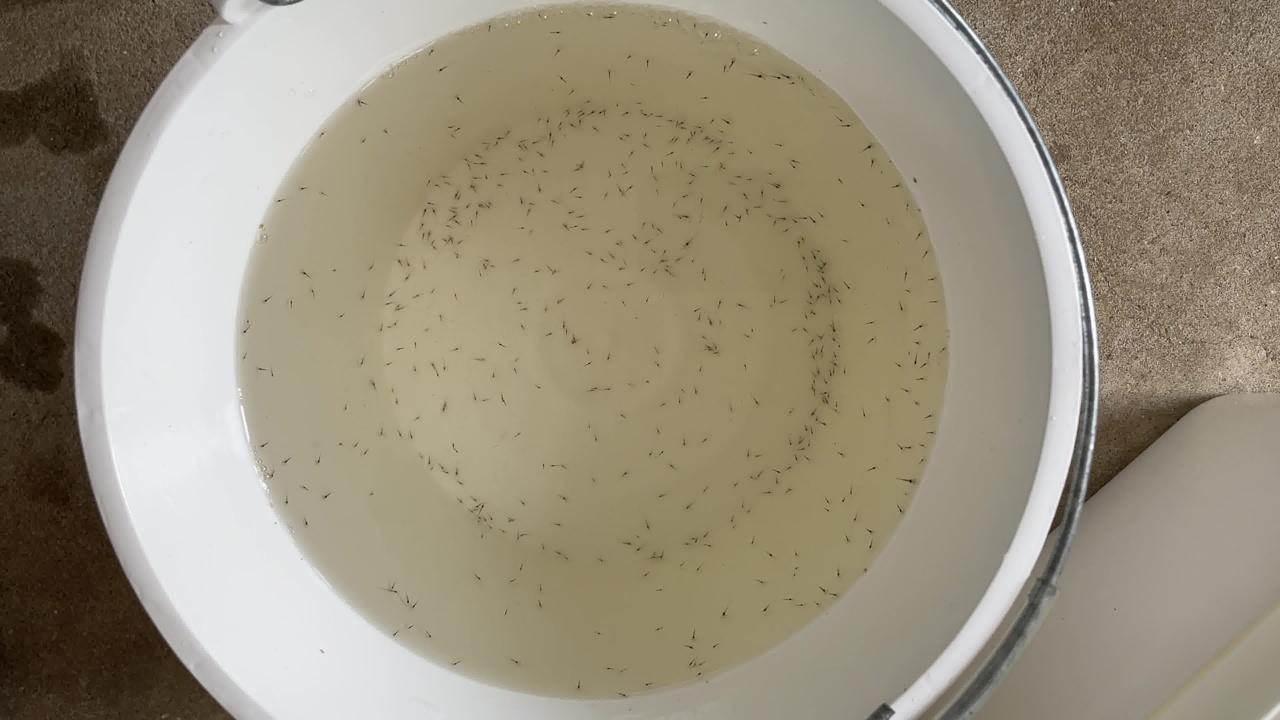shrimp: (498, 395, 510, 403), (536, 381, 548, 389), (513, 368, 525, 376), (490, 368, 502, 376), (479, 395, 491, 403), (467, 392, 479, 400), (503, 126, 515, 134), (496, 131, 508, 139), (490, 139, 502, 147), (478, 135, 490, 143), (486, 145, 498, 153), (474, 149, 486, 157), (462, 153, 474, 161), (461, 161, 473, 169), (477, 156, 489, 164), (481, 171, 493, 179), (470, 172, 482, 180), (469, 182, 481, 190), (489, 178, 501, 186), (498, 169, 510, 177), (456, 190, 468, 198), (453, 190, 465, 198), (464, 201, 476, 209), (448, 180, 460, 188), (440, 173, 452, 181), (435, 181, 447, 189), (423, 176, 435, 184), (425, 199, 437, 207), (418, 209, 430, 217), (413, 222, 425, 230), (420, 231, 432, 239), (424, 226, 436, 234), (429, 211, 441, 219), (429, 239, 441, 247), (438, 235, 450, 243), (442, 239, 454, 247), (445, 234, 457, 242), (450, 236, 462, 244), (455, 238, 467, 246), (453, 248, 465, 256), (441, 224, 453, 232), (458, 218, 470, 226), (449, 215, 461, 223), (448, 211, 460, 219), (448, 206, 460, 214), (467, 219, 479, 227), (474, 213, 486, 221), (476, 203, 488, 211), (484, 204, 496, 212), (486, 198, 498, 206), (516, 170, 528, 178), (527, 166, 539, 174), (538, 165, 550, 173), (514, 156, 526, 164), (513, 141, 525, 149), (520, 143, 532, 151), (518, 137, 530, 145), (529, 138, 541, 146), (534, 117, 546, 125), (543, 116, 555, 124), (544, 131, 556, 139), (550, 139, 562, 147), (537, 150, 549, 158), (534, 181, 546, 189), (515, 197, 527, 205), (529, 199, 541, 207), (521, 205, 533, 213), (474, 269, 486, 277), (481, 264, 493, 272), (489, 264, 501, 272), (482, 257, 494, 265), (509, 257, 521, 265), (518, 224, 530, 232), (548, 198, 560, 206), (565, 206, 577, 214), (577, 210, 589, 218), (561, 221, 573, 229), (570, 224, 582, 232), (582, 224, 594, 232), (599, 225, 611, 233), (576, 194, 588, 202), (571, 185, 583, 193), (571, 167, 583, 175), (577, 162, 589, 170), (554, 117, 566, 125), (555, 132, 567, 140), (539, 264, 551, 272), (551, 268, 563, 276), (528, 264, 540, 272), (508, 284, 520, 292), (397, 239, 409, 247), (391, 257, 403, 265), (420, 260, 432, 268), (402, 259, 414, 267), (389, 288, 401, 296), (380, 299, 392, 307), (399, 306, 411, 314), (390, 302, 402, 310), (412, 291, 424, 299), (402, 272, 414, 280), (427, 286, 439, 294), (435, 312, 447, 320), (448, 290, 460, 298), (498, 340, 510, 348), (513, 355, 525, 363), (516, 324, 528, 332), (519, 304, 531, 312), (515, 299, 527, 307), (540, 306, 552, 314), (544, 327, 556, 335), (553, 296, 565, 304), (555, 317, 567, 325), (560, 325, 572, 333), (569, 338, 581, 346), (582, 346, 594, 354), (581, 360, 593, 368), (592, 382, 604, 390), (589, 388, 601, 396), (603, 386, 615, 394), (605, 350, 617, 358), (600, 284, 612, 292), (585, 284, 597, 292), (586, 248, 598, 256), (599, 257, 611, 265), (571, 125, 583, 133), (562, 111, 574, 119), (563, 103, 575, 111), (573, 105, 585, 113), (575, 111, 587, 119), (584, 106, 596, 114), (583, 100, 595, 108), (592, 108, 604, 116), (600, 108, 612, 116), (588, 123, 600, 131), (623, 106, 635, 114), (613, 98, 625, 106), (606, 170, 618, 178), (601, 189, 613, 197), (620, 137, 632, 145), (623, 130, 635, 138), (625, 150, 637, 158), (618, 158, 630, 166), (622, 180, 634, 188), (614, 184, 626, 192), (615, 238, 627, 246), (631, 228, 643, 236), (611, 251, 623, 259), (618, 262, 630, 270), (639, 217, 651, 225), (652, 224, 664, 232), (643, 235, 655, 243), (640, 128, 652, 136), (643, 143, 655, 151), (646, 161, 658, 169), (651, 174, 663, 182), (652, 185, 664, 193), (656, 159, 668, 167), (647, 107, 659, 115), (656, 110, 668, 118), (663, 115, 675, 123), (670, 115, 682, 123), (675, 116, 687, 124), (679, 121, 691, 129), (638, 111, 650, 119), (634, 96, 646, 104), (628, 80, 640, 88), (605, 66, 617, 74), (566, 85, 578, 93), (557, 72, 569, 80), (551, 43, 563, 51), (547, 25, 559, 33), (443, 119, 455, 127), (454, 125, 466, 133), (447, 132, 459, 140), (456, 94, 468, 102), (436, 61, 448, 69), (427, 47, 439, 55), (485, 22, 497, 30), (604, 13, 616, 21), (750, 74, 762, 82), (768, 72, 780, 80), (783, 72, 795, 80), (788, 80, 800, 88), (732, 58, 744, 66), (719, 66, 731, 74), (686, 71, 698, 79), (636, 58, 648, 66), (674, 17, 686, 25), (688, 20, 700, 28), (702, 29, 714, 37), (700, 87, 712, 95), (723, 115, 735, 123), (831, 113, 843, 121), (842, 121, 854, 129), (663, 135, 675, 143), (668, 137, 680, 145), (682, 138, 694, 146), (684, 128, 696, 136), (694, 126, 706, 134), (708, 114, 720, 122), (718, 124, 730, 132), (668, 152, 680, 160), (668, 198, 680, 206), (628, 279, 640, 287), (635, 265, 647, 273), (650, 242, 662, 250), (681, 239, 693, 247), (681, 212, 693, 220), (674, 214, 686, 222), (680, 194, 692, 202), (686, 179, 698, 187), (689, 170, 701, 178), (679, 161, 691, 169), (696, 161, 708, 169), (711, 144, 723, 152), (707, 137, 719, 145), (703, 134, 715, 142), (727, 137, 739, 145), (730, 151, 742, 159), (741, 148, 753, 156), (777, 138, 789, 146), (791, 152, 803, 160), (784, 161, 796, 169), (835, 174, 847, 182), (861, 197, 873, 205), (881, 216, 893, 224), (870, 158, 882, 166), (864, 140, 876, 148), (734, 210, 746, 218), (730, 212, 742, 220), (741, 206, 753, 214), (719, 162, 731, 170), (728, 178, 740, 186), (737, 169, 749, 177), (744, 176, 756, 184), (774, 181, 786, 189), (769, 184, 781, 192), (758, 191, 770, 199), (754, 202, 766, 210), (739, 191, 751, 199), (719, 204, 731, 212), (677, 255, 689, 263), (661, 269, 673, 277), (663, 261, 675, 269), (657, 255, 669, 263), (649, 265, 661, 273), (411, 339, 423, 347), (452, 445, 464, 453), (473, 499, 485, 507), (468, 492, 480, 500), (468, 506, 480, 514), (453, 496, 465, 504), (454, 480, 466, 488), (478, 502, 490, 510), (473, 512, 485, 520), (480, 515, 492, 523), (485, 507, 497, 515), (485, 521, 497, 529), (478, 528, 490, 536), (474, 517, 486, 525), (451, 471, 463, 479), (438, 406, 450, 414), (427, 361, 439, 369), (434, 373, 446, 381), (438, 363, 450, 371), (451, 343, 463, 351), (476, 354, 488, 362), (818, 210, 830, 218), (810, 215, 822, 223), (797, 210, 809, 218), (776, 195, 788, 203), (763, 208, 775, 216), (781, 211, 793, 219), (770, 216, 782, 224), (791, 218, 803, 226), (782, 225, 794, 233), (696, 264, 708, 272), (699, 273, 711, 281), (685, 254, 697, 262), (698, 198, 710, 206), (721, 219, 733, 227), (695, 306, 707, 314), (714, 297, 726, 305), (736, 299, 748, 307), (790, 243, 802, 251), (795, 236, 807, 244), (836, 235, 848, 243), (894, 179, 906, 187), (913, 230, 925, 238), (918, 249, 930, 257), (926, 272, 938, 280), (926, 293, 938, 301), (901, 267, 913, 275), (901, 208, 913, 216), (386, 129, 398, 137), (358, 137, 370, 145), (358, 97, 370, 105), (353, 100, 365, 108), (313, 124, 325, 132), (273, 195, 285, 203), (292, 187, 304, 195), (320, 190, 332, 198), (821, 259, 833, 267), (817, 264, 829, 272), (815, 268, 827, 276), (818, 248, 830, 256), (809, 252, 821, 260), (799, 254, 811, 262), (803, 264, 815, 272), (711, 338, 723, 346), (714, 352, 726, 360), (705, 346, 717, 354), (702, 339, 714, 347), (705, 314, 717, 322), (712, 319, 724, 327), (748, 323, 760, 331), (742, 331, 754, 339), (770, 295, 782, 303), (776, 297, 788, 305), (807, 283, 819, 291), (816, 283, 828, 291), (844, 280, 856, 288), (831, 284, 843, 292), (803, 298, 815, 306), (835, 296, 847, 304), (816, 293, 828, 301), (823, 297, 835, 305), (899, 283, 911, 291), (897, 301, 909, 309), (652, 361, 664, 369), (652, 345, 664, 353), (644, 297, 656, 305), (616, 299, 628, 307), (640, 374, 652, 382), (659, 399, 671, 407), (676, 396, 688, 404), (676, 388, 688, 396), (724, 406, 736, 414), (747, 395, 759, 403), (740, 364, 752, 372), (694, 385, 706, 393), (696, 365, 708, 373), (870, 335, 882, 343), (863, 317, 875, 325), (914, 323, 926, 331), (935, 346, 947, 354), (903, 475, 915, 483), (914, 458, 926, 466), (903, 441, 915, 449), (893, 441, 905, 449), (857, 408, 869, 416), (828, 319, 840, 327), (824, 322, 836, 330), (913, 338, 925, 346), (926, 350, 938, 358), (893, 360, 905, 368), (882, 394, 894, 402), (923, 413, 935, 421), (915, 440, 927, 448), (926, 429, 938, 437), (912, 401, 924, 409), (903, 385, 915, 393), (908, 356, 920, 364), (918, 362, 930, 370), (915, 373, 927, 381), (811, 309, 823, 317), (800, 315, 812, 323), (790, 326, 802, 334), (801, 327, 813, 335), (836, 340, 848, 348), (831, 335, 843, 343), (805, 336, 817, 344), (806, 351, 818, 359), (819, 342, 831, 350), (813, 346, 825, 354), (818, 330, 830, 338), (812, 330, 824, 338), (843, 366, 855, 374), (832, 348, 844, 356), (830, 357, 842, 365), (830, 365, 842, 373), (826, 367, 838, 375), (809, 370, 821, 378), (811, 368, 823, 376), (808, 376, 820, 384), (822, 374, 834, 382), (808, 385, 820, 393), (817, 386, 829, 394), (825, 390, 837, 398), (831, 396, 843, 404), (831, 404, 843, 412), (825, 397, 837, 405), (819, 397, 831, 405), (836, 450, 848, 458), (865, 466, 877, 474), (896, 505, 908, 513), (867, 542, 879, 550), (846, 535, 858, 543), (820, 507, 832, 515), (823, 497, 835, 505), (867, 525, 879, 533), (852, 512, 864, 520), (839, 498, 851, 506), (846, 488, 858, 496), (804, 456, 816, 464), (792, 547, 804, 555), (762, 550, 774, 558), (745, 449, 757, 457), (755, 449, 767, 457), (785, 405, 797, 413), (808, 405, 820, 413), (786, 438, 798, 446), (821, 417, 833, 425), (798, 422, 810, 430), (812, 415, 824, 423), (798, 430, 810, 438), (798, 444, 810, 452), (805, 437, 817, 445), (808, 424, 820, 432), (792, 451, 804, 459), (784, 463, 796, 471), (770, 466, 782, 474), (747, 473, 759, 481), (757, 465, 769, 473), (765, 488, 777, 496), (786, 487, 798, 495), (781, 491, 793, 499), (775, 477, 787, 485), (704, 434, 716, 442), (680, 438, 692, 446), (280, 458, 292, 466), (259, 439, 271, 447), (255, 365, 267, 373), (267, 369, 279, 377), (239, 353, 251, 361), (239, 329, 251, 337), (243, 315, 255, 323), (260, 295, 272, 303), (301, 268, 313, 276), (285, 298, 297, 306), (306, 287, 318, 295), (336, 313, 348, 321), (356, 293, 368, 301), (364, 263, 376, 271), (837, 569, 849, 577), (832, 589, 844, 597), (815, 583, 827, 591), (789, 565, 801, 573), (757, 578, 769, 586), (759, 606, 771, 614), (785, 593, 797, 601), (813, 598, 825, 606), (795, 599, 807, 607), (697, 658, 709, 666), (690, 660, 702, 668), (685, 656, 697, 664), (694, 667, 706, 675), (709, 638, 721, 646), (684, 642, 696, 650), (687, 633, 699, 641), (719, 609, 731, 617), (643, 680, 655, 688), (570, 684, 582, 692), (620, 691, 632, 699), (608, 665, 620, 673), (617, 665, 629, 673), (595, 629, 607, 637), (659, 449, 671, 457), (667, 461, 679, 469), (685, 504, 697, 512), (659, 552, 671, 560), (649, 554, 661, 562), (649, 548, 661, 556), (621, 540, 633, 548), (631, 544, 643, 552), (640, 523, 652, 531), (657, 492, 669, 500), (645, 449, 657, 457), (618, 412, 630, 420), (651, 427, 663, 435), (728, 479, 740, 487), (745, 534, 757, 542), (706, 542, 718, 550), (655, 590, 667, 598), (653, 626, 665, 634), (643, 570, 655, 578), (676, 558, 688, 566), (683, 539, 695, 547), (695, 562, 707, 570), (692, 541, 704, 549), (689, 532, 701, 540), (698, 531, 710, 539), (730, 524, 742, 532), (728, 516, 740, 524), (743, 507, 755, 515), (736, 503, 748, 511), (701, 486, 713, 494), (377, 323, 389, 331), (318, 450, 330, 458), (282, 498, 294, 506), (300, 515, 312, 523), (297, 482, 309, 490), (319, 492, 331, 500), (388, 587, 400, 595), (390, 630, 402, 638), (404, 596, 416, 604), (405, 620, 417, 628), (409, 597, 421, 605), (422, 632, 434, 640), (454, 660, 466, 668), (510, 655, 522, 663), (593, 555, 605, 563), (586, 435, 598, 443), (622, 468, 634, 476), (353, 359, 365, 367), (395, 345, 407, 353), (443, 469, 455, 477), (439, 461, 451, 469), (429, 467, 441, 475), (415, 454, 427, 462), (422, 460, 434, 468), (498, 530, 510, 538), (476, 574, 488, 582), (499, 608, 511, 616), (533, 598, 545, 606), (503, 575, 515, 583), (534, 582, 546, 590), (517, 563, 529, 571), (511, 536, 523, 544), (519, 532, 531, 540), (508, 514, 520, 522), (518, 498, 530, 506), (563, 555, 575, 563), (554, 549, 566, 557), (538, 543, 550, 551), (547, 460, 559, 468), (537, 463, 549, 471), (552, 520, 564, 528), (557, 495, 569, 503), (558, 464, 570, 472), (512, 430, 524, 438), (384, 361, 396, 369), (338, 439, 350, 447), (403, 432, 415, 440), (378, 429, 390, 437), (394, 429, 406, 437), (409, 413, 421, 421), (368, 379, 380, 387), (359, 449, 371, 457), (344, 407, 356, 415), (348, 441, 360, 449), (385, 385, 397, 393), (391, 399, 403, 407), (408, 366, 420, 374), (585, 476, 597, 484)
